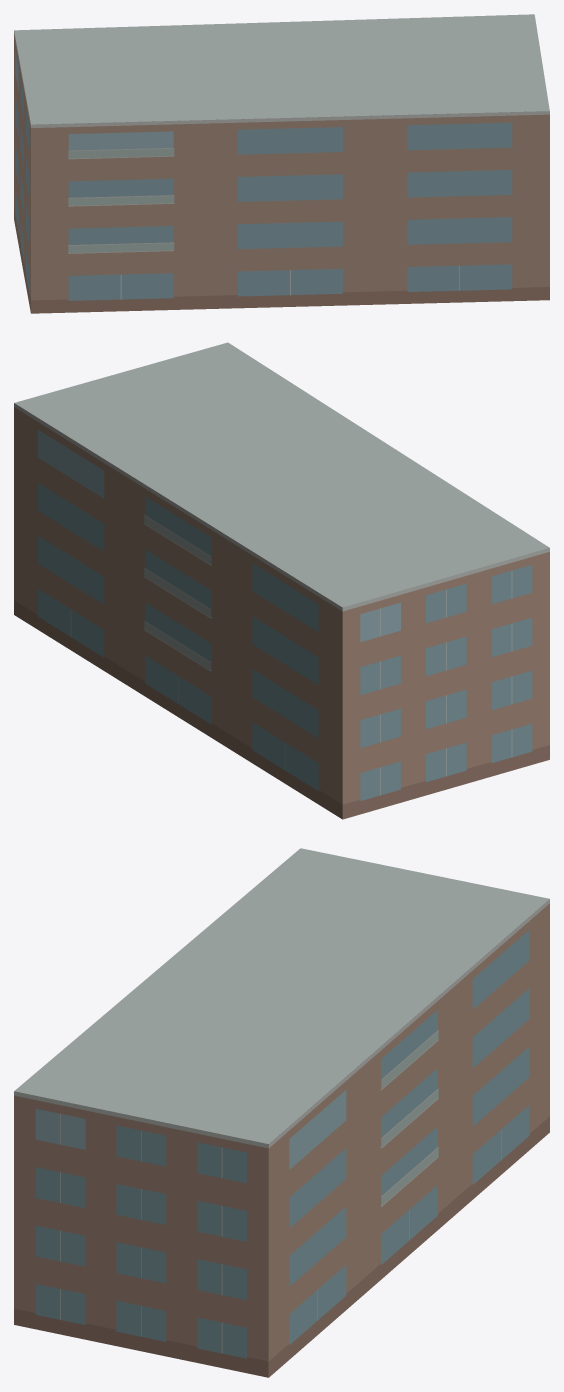
The model's file is survey-upis-32892306.glb.
The picture shows the model from 3 angles, top to bottom: view 1: azimuth 30°, elevation 25°; view 2: azimuth 150°, elevation 25°; view 3: azimuth 270°, elevation 25°; orthographic projection. The views are drawn at different scales.
Visible parts, largest first — view 1: survey-upis-32892306.tmp; view 2: survey-upis-32892306.tmp; view 3: survey-upis-32892306.tmp.
Part boxes in pixels (box(x1,y1,x2,y2)): survey-upis-32892306.tmp: box(14, 14, 549, 313); survey-upis-32892306.tmp: box(14, 342, 549, 819); survey-upis-32892306.tmp: box(14, 848, 549, 1377).
Size of the model in its own units: 35.6 by 13.1 by 27.24.
